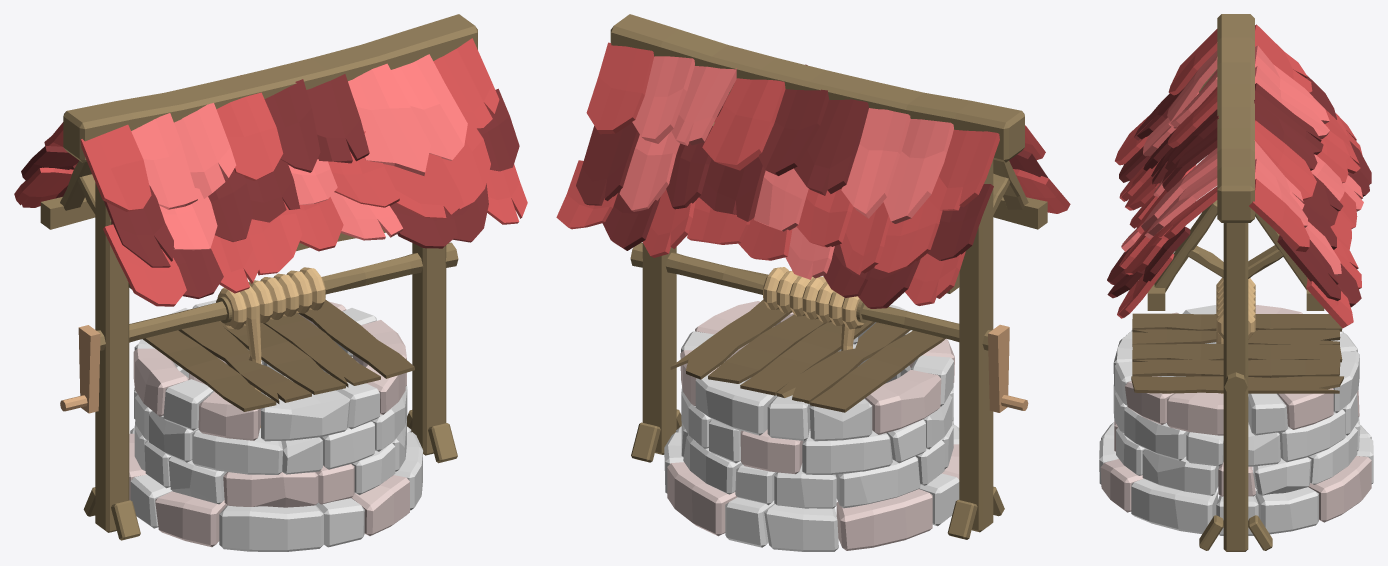
File: well.fbx
3 renders of one model, left to right at view 1: azimuth 30°, elevation 25°; view 2: azimuth 150°, elevation 25°; view 3: azimuth 270°, elevation 25°, orthographic. The views are drawn at different scales.
Visible parts, largest first — view 1: Plane.000; view 2: Plane.000; view 3: Plane.000.
Boxes of the visible parts, x1,y1,x2,y2 form: Plane.000: (14, 14, 527, 551); Plane.000: (556, 14, 1070, 551); Plane.000: (1099, 14, 1373, 551).
Bounding box in the file's own units: 2264 × 2225 × 1456.
